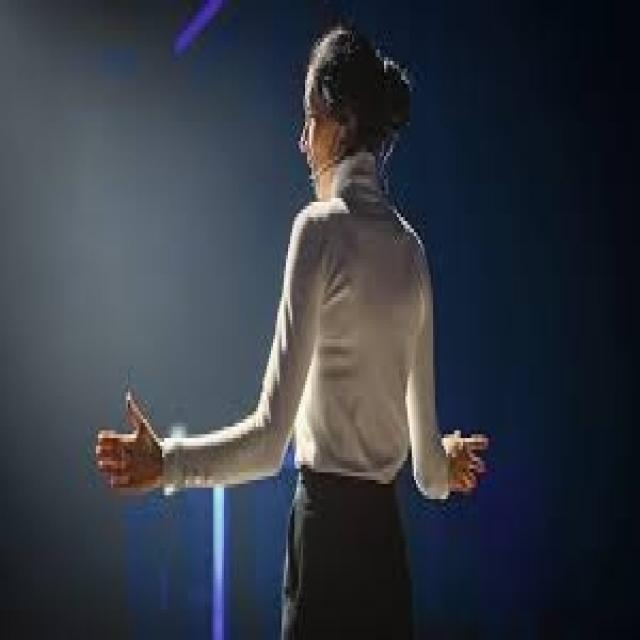walking: (88, 17, 494, 634)
